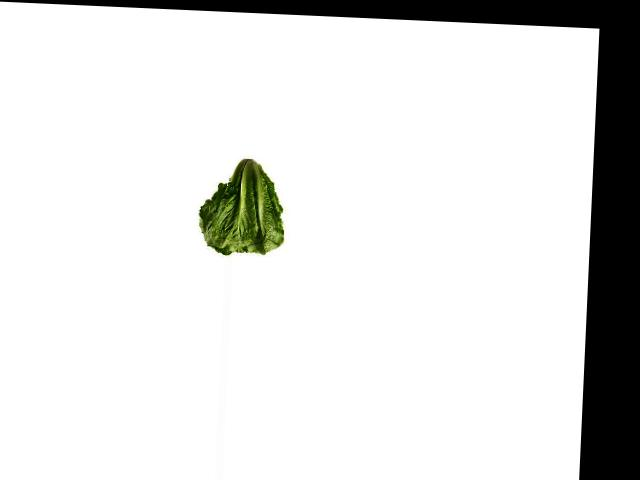lettuce: (194, 151, 284, 259)
